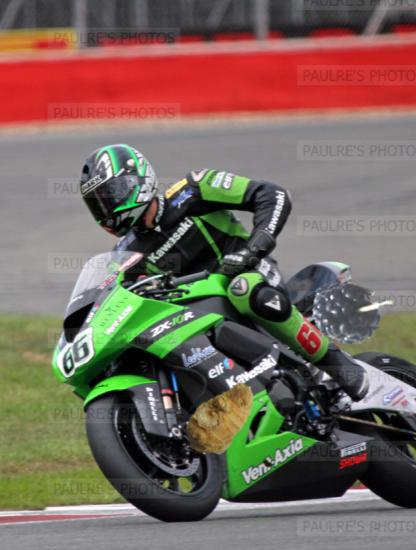Ginger: (180, 376, 265, 461)
Mulberry: (299, 270, 388, 359)
